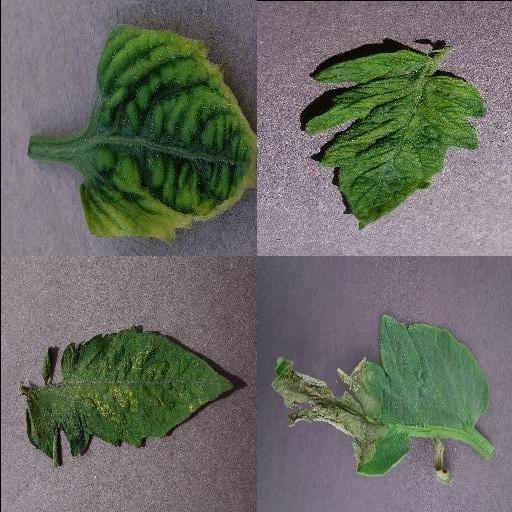Late Blight: (269, 311, 489, 485)
Mosaic Virus: (304, 45, 484, 229)
Spider Mites: (25, 328, 235, 468)
Yellow Leaf Curl Virus: (80, 24, 256, 243)
